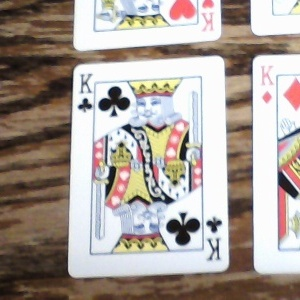card: (69, 55, 230, 276)
